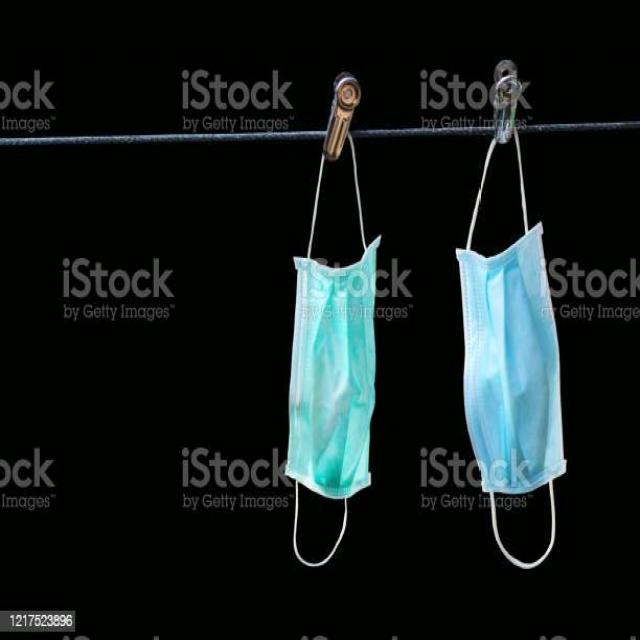non-organic waste: (454, 130, 569, 563), (280, 124, 381, 568)
